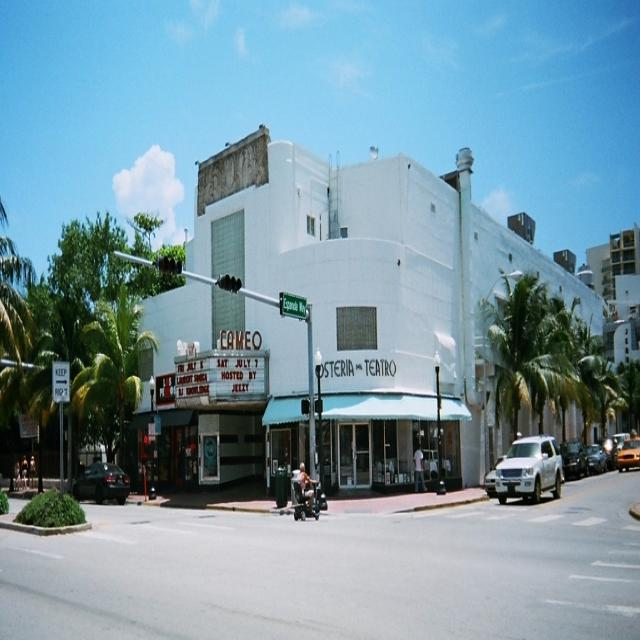car: (495, 426, 564, 503), (616, 433, 639, 469), (584, 445, 603, 478)
